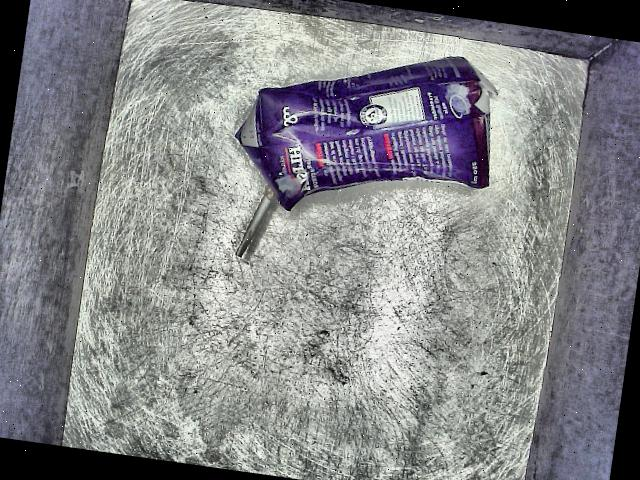Paper: (212, 6, 513, 300)
